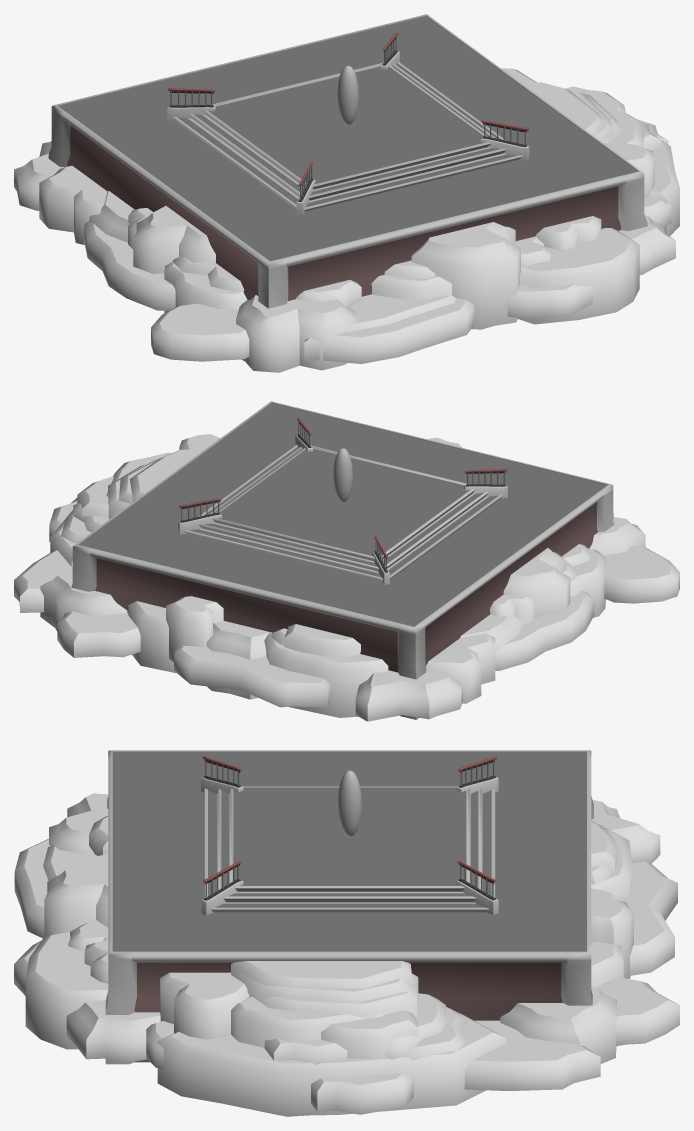
Rendered from Platform.fbx.
The picture shows the model from 3 angles, top to bottom: view 1: azimuth 30°, elevation 25°; view 2: azimuth 150°, elevation 25°; view 3: azimuth 270°, elevation 25°; orthographic projection. The views are drawn at different scales.
Visible parts, largest first — view 1: Cube, Cylinder; view 2: Cube, Cylinder; view 3: Cube, Cylinder.
Part boxes in pixels (x1,y1,x2,y2): Cube: (48, 14, 647, 308); Cylinder: (14, 68, 679, 372); Cube: (71, 401, 614, 719); Cylinder: (14, 434, 679, 721); Cube: (105, 750, 593, 1064); Cylinder: (14, 793, 679, 1116).
Bounding box in the file's own units: 6305 × 1831 × 5515.
